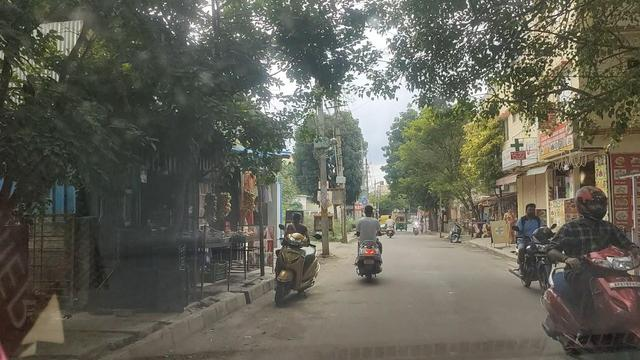LMV: (537, 188, 640, 360), (268, 214, 322, 301), (509, 197, 553, 294), (349, 199, 389, 293)
